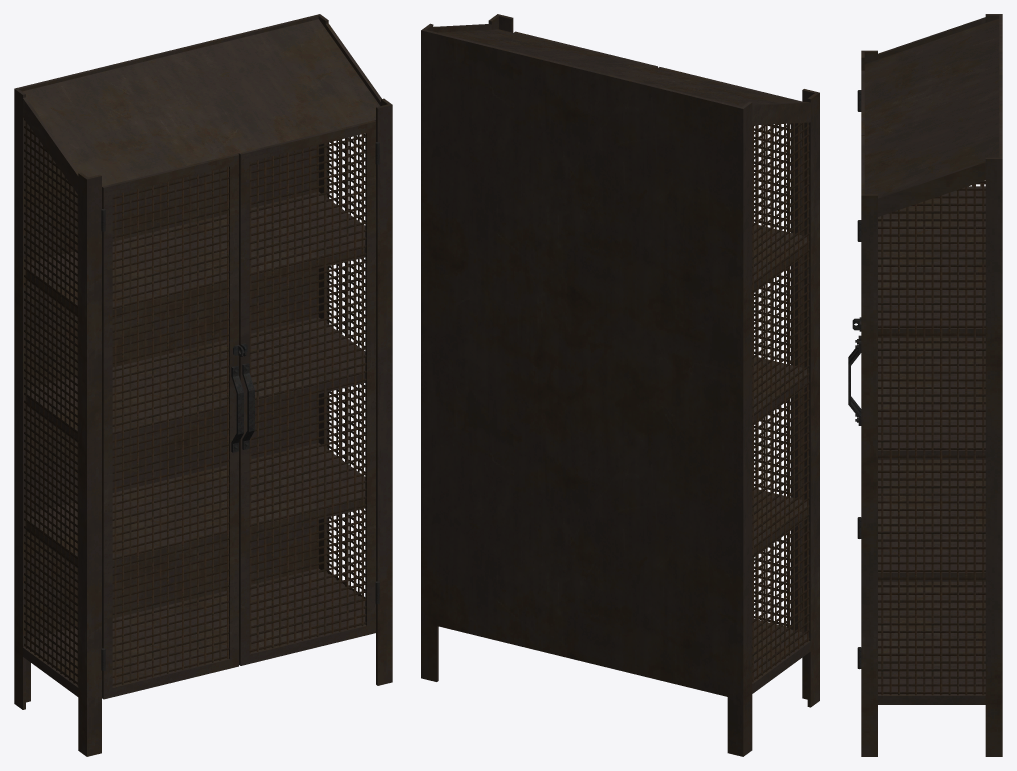
File: shelf_mx_8_2.glb
The picture shows the model from 3 angles, left to right: view 1: azimuth 30°, elevation 25°; view 2: azimuth 150°, elevation 25°; view 3: azimuth 270°, elevation 25°; orthographic projection. The views are drawn at different scales.
Visible parts, largest first — view 1: shelf_mx_8_2, shelf_mx_8_2_door_right, shelf_mx_8_2_door_left; view 2: shelf_mx_8_2, shelf_mx_8_2_door_left; view 3: shelf_mx_8_2, shelf_mx_8_2_door_right, shelf_mx_8_2_door_left.
Boxes of the visible parts, bbox=[...] form: shelf_mx_8_2: bbox=[14, 14, 392, 756]; shelf_mx_8_2_door_right: bbox=[239, 120, 379, 665]; shelf_mx_8_2_door_left: bbox=[101, 154, 243, 699]; shelf_mx_8_2: bbox=[421, 14, 819, 756]; shelf_mx_8_2_door_left: bbox=[658, 67, 802, 631]; shelf_mx_8_2: bbox=[861, 14, 1002, 756]; shelf_mx_8_2_door_right: bbox=[848, 135, 864, 669]; shelf_mx_8_2_door_left: bbox=[848, 70, 864, 538].
Bounding box in the file's own units: 1.02 × 1.96 × 0.458.
3 materials, 3 textured.
